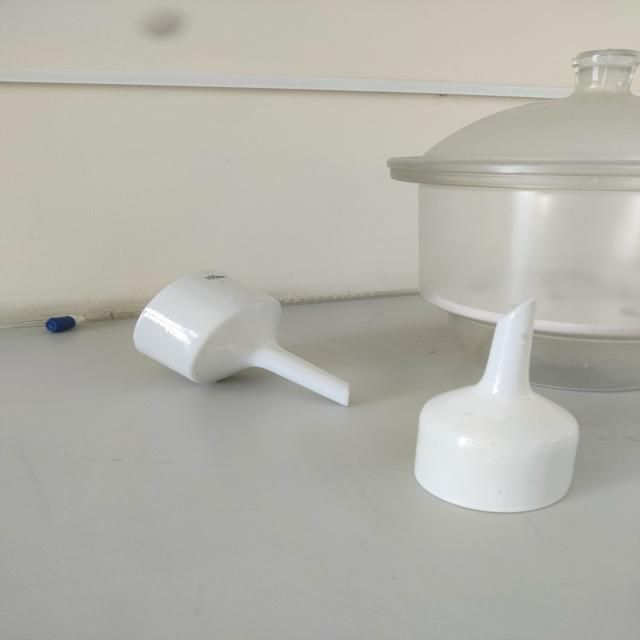Buchner_Funnel: (397, 284, 599, 528), (103, 255, 367, 417)
